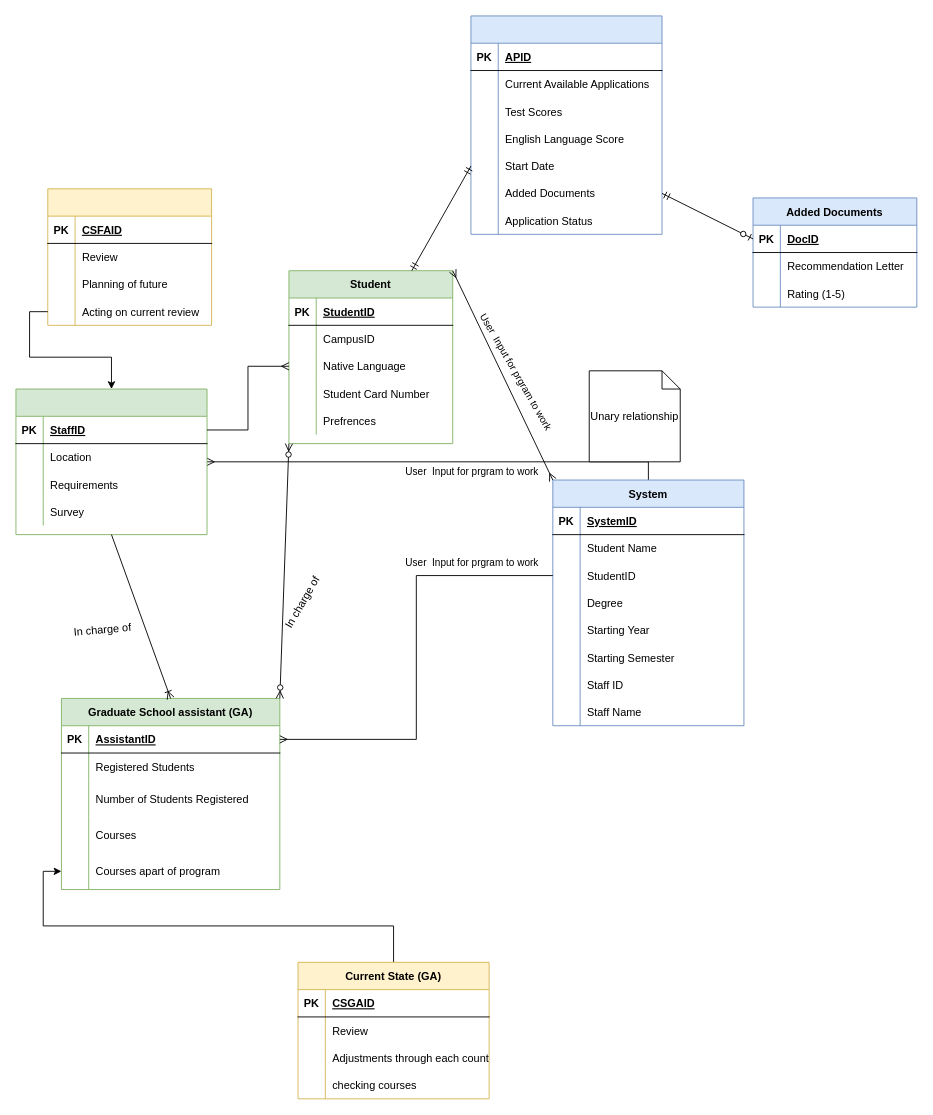
This 933x1115 diagram has some shape labels left out. Here are the shapes that lost their labels. From the top down, the box of each, then its label:
(470, 15, 662, 234): Application Page
(47, 188, 212, 325): Current State (FA)
(15, 388, 207, 535): Faculty staff (FA)
